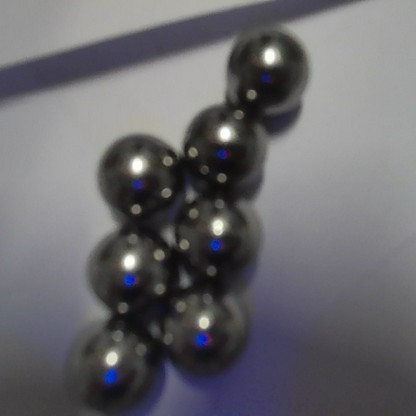ironball: (85, 231, 176, 315), (69, 321, 159, 405), (95, 134, 179, 219), (186, 103, 267, 191), (161, 283, 243, 368), (228, 33, 305, 113), (176, 197, 251, 278)
